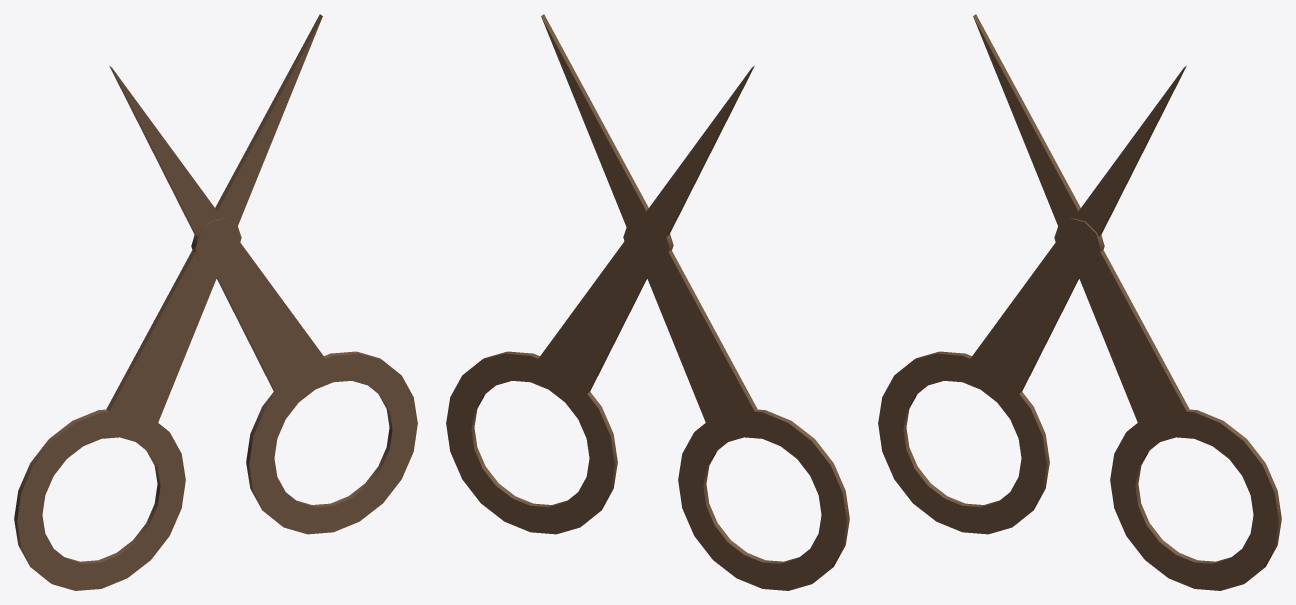
File: sign_icon_scissors.glb
The picture shows the model from 3 angles, left to right: view 1: azimuth 30°, elevation 25°; view 2: azimuth 150°, elevation 25°; view 3: azimuth 330°, elevation 25°; orthographic projection.
Parts seen in each view (by area): view 1: sign_icon_scissors; view 2: sign_icon_scissors; view 3: sign_icon_scissors.
Part boxes in pixels (<box>): sign_icon_scissors: <box>14,14,417,590</box>; sign_icon_scissors: <box>446,14,849,590</box>; sign_icon_scissors: <box>878,14,1281,590</box>.
Bounding box in the file's own units: 0.19 × 0.235 × 0.00325.
